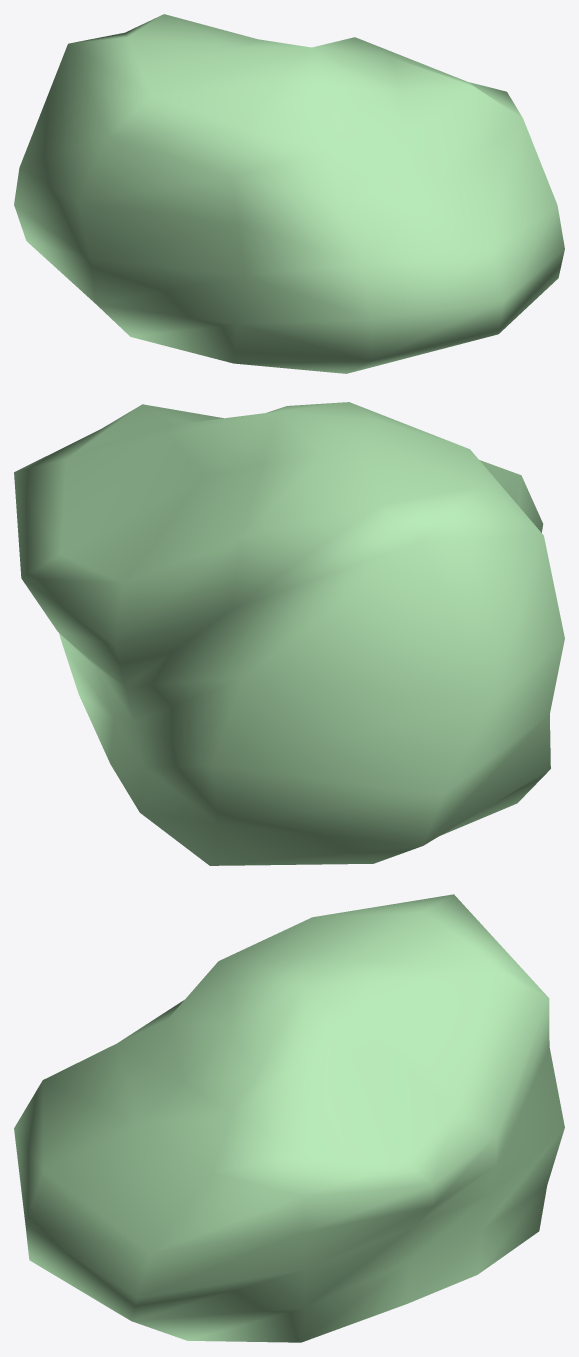
Rendered from Rock4_Medium.fbx.
3 renders of one model, top to bottom at view 1: azimuth 30°, elevation 25°; view 2: azimuth 150°, elevation 25°; view 3: azimuth 270°, elevation 25°, orthographic. The views are drawn at different scales.
Parts seen in each view (by area): view 1: Rock4_Medium; view 2: Rock4_Medium; view 3: Rock4_Medium.
Part boxes in pixels (left/top/right/bottom): Rock4_Medium: left=14, top=14, right=564, bottom=373; Rock4_Medium: left=14, top=402, right=564, bottom=865; Rock4_Medium: left=14, top=894, right=564, bottom=1342.
Bounding box in the file's own units: 1076 × 631 × 1093.
